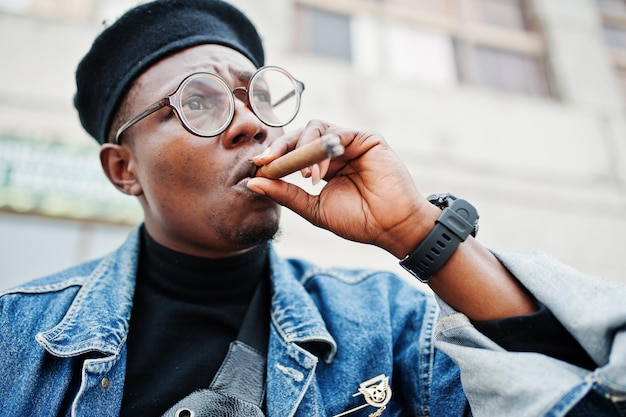cigarette: (254, 133, 349, 181)
